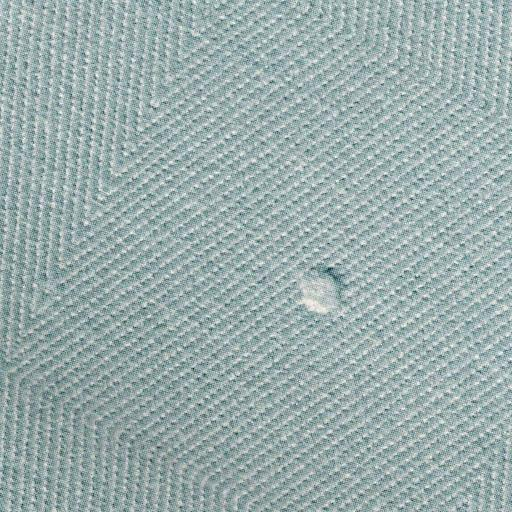knot: (294, 257, 354, 321)
